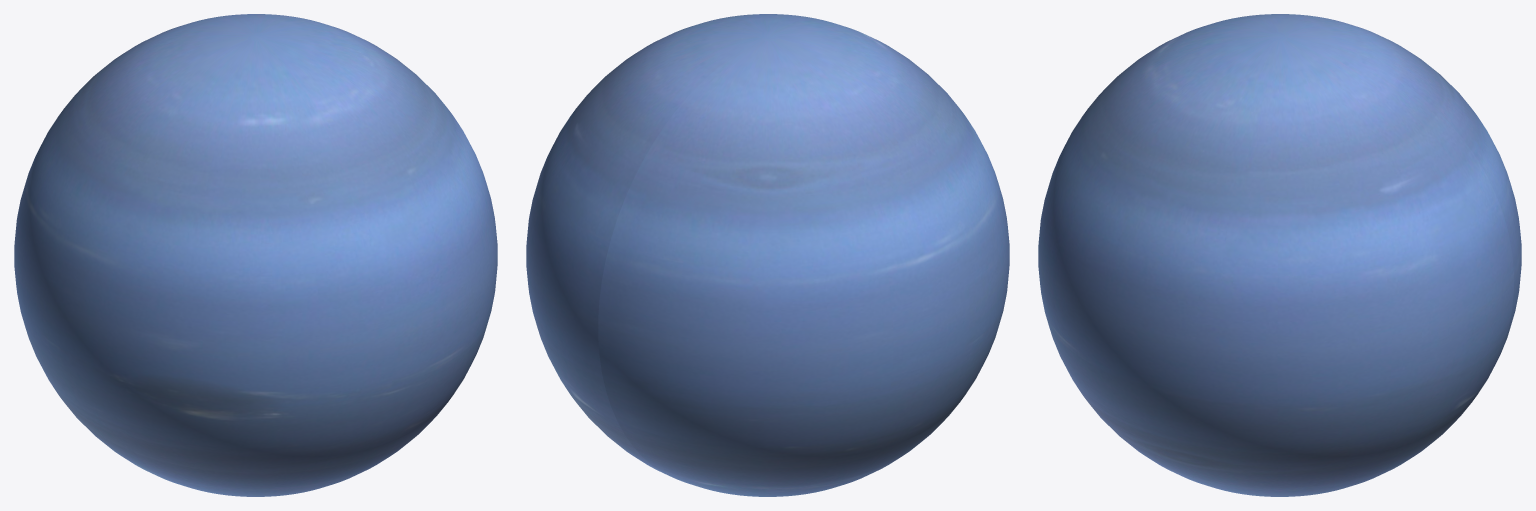
Rendered from Neptune.glb.
The picture shows the model from 3 angles, left to right: view 1: azimuth 30°, elevation 25°; view 2: azimuth 150°, elevation 25°; view 3: azimuth 270°, elevation 25°; orthographic projection.
Visible parts, largest first — view 1: Neptune; view 2: Neptune; view 3: Neptune.
Boxes of the visible parts, left/top/right/bottom form: Neptune: left=14, top=14, right=497, bottom=496; Neptune: left=526, top=14, right=1009, bottom=496; Neptune: left=1038, top=14, right=1521, bottom=496.
Size of the model in its own units: 0.6 by 0.6 by 0.6.
Materials: 1 (1 with a texture image).
